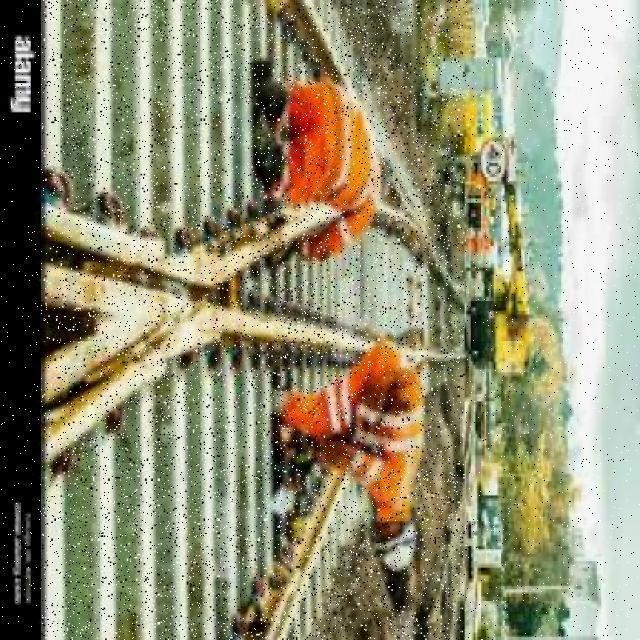rail: (43, 1, 462, 640)
